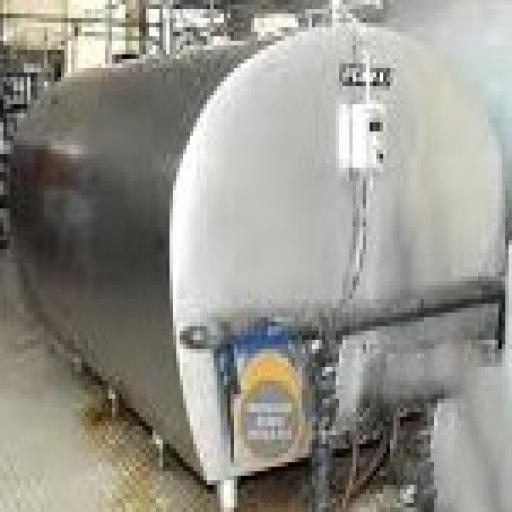silo: (7, 22, 505, 480)
